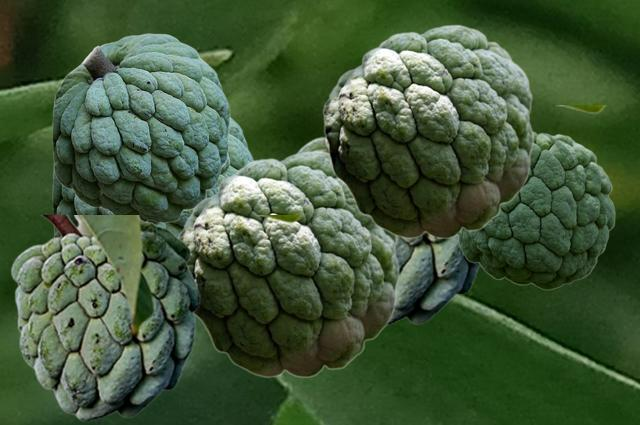atis: (293, 105, 604, 328), (10, 215, 300, 421), (177, 150, 399, 377), (322, 24, 533, 238), (52, 33, 229, 222), (457, 131, 614, 289), (52, 116, 253, 236)
